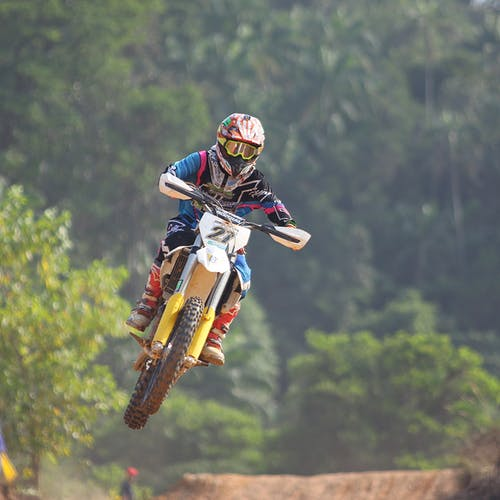helmet: (182, 102, 271, 191)
